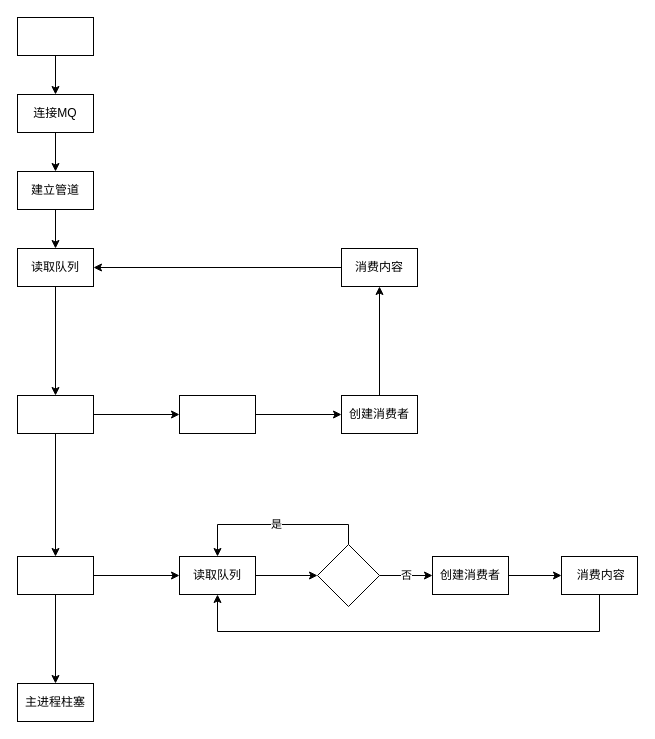
Image size: 655x739. Some labels were removed from this diagram. The box of each missing label's shape, as (x1, y1, x2, y2) in pixels:
主线程: (16, 16, 94, 56)
创建协程: (16, 394, 94, 434)
创建检测: (16, 556, 94, 594)
存活 检测: (316, 544, 380, 606)
绑定队列: (178, 394, 256, 434)
